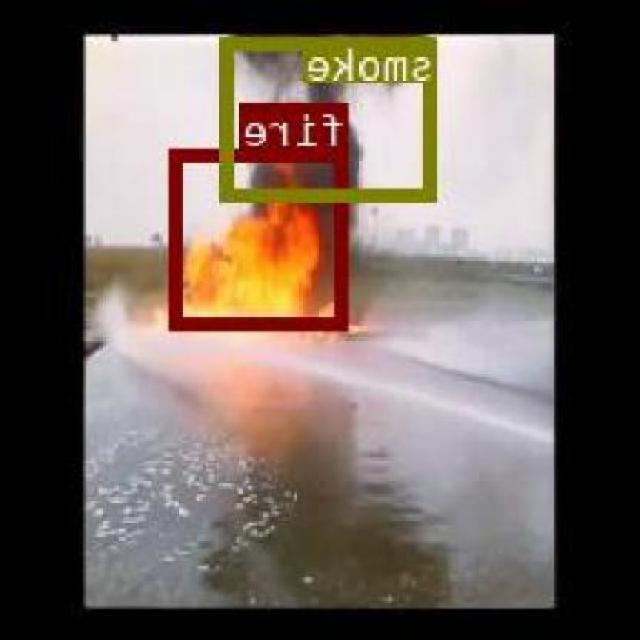Fire: (172, 148, 352, 328)
Smoke: (224, 35, 440, 199)
